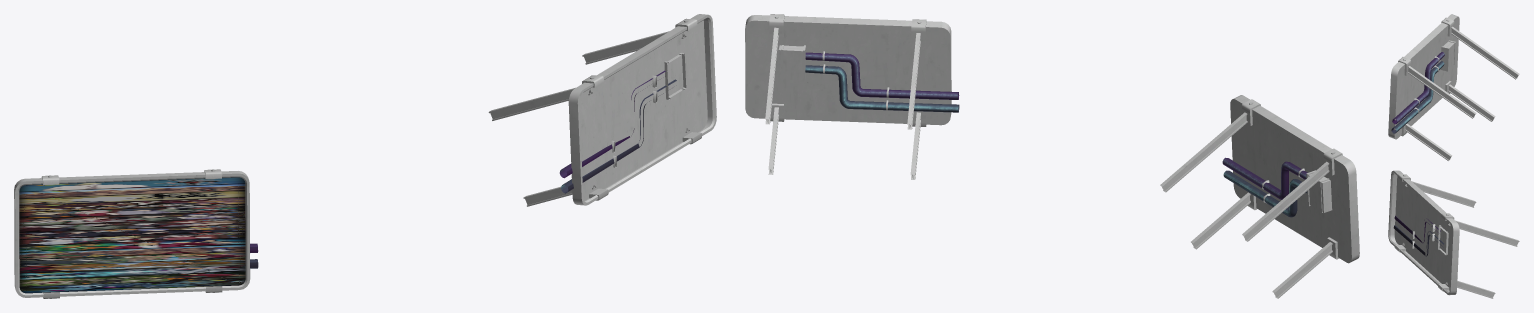
Rendered from SM_ENV_LKNVLD_VideoScreen_02.FBX.
3 views of the same model, side by side, from view 1: azimuth 30°, elevation 25°; view 2: azimuth 150°, elevation 25°; view 3: azimuth 270°, elevation 25° (orthographic). The views are drawn at different scales.
Visible parts, largest first — view 1: SM_ENV_LKNVLD_VideoScreen_02; view 2: SM_ENV_LKNVLD_VideoScreen_02; view 3: SM_ENV_LKNVLD_VideoScreen_02.
Boxes of the visible parts, x1=… form: SM_ENV_LKNVLD_VideoScreen_02: x1=14, y1=14, x2=716, y2=298; SM_ENV_LKNVLD_VideoScreen_02: x1=745, y1=14, x2=1359, y2=298; SM_ENV_LKNVLD_VideoScreen_02: x1=1388, y1=14, x2=1519, y2=298.
Size of the model in its own units: 2520 by 509 by 653.
